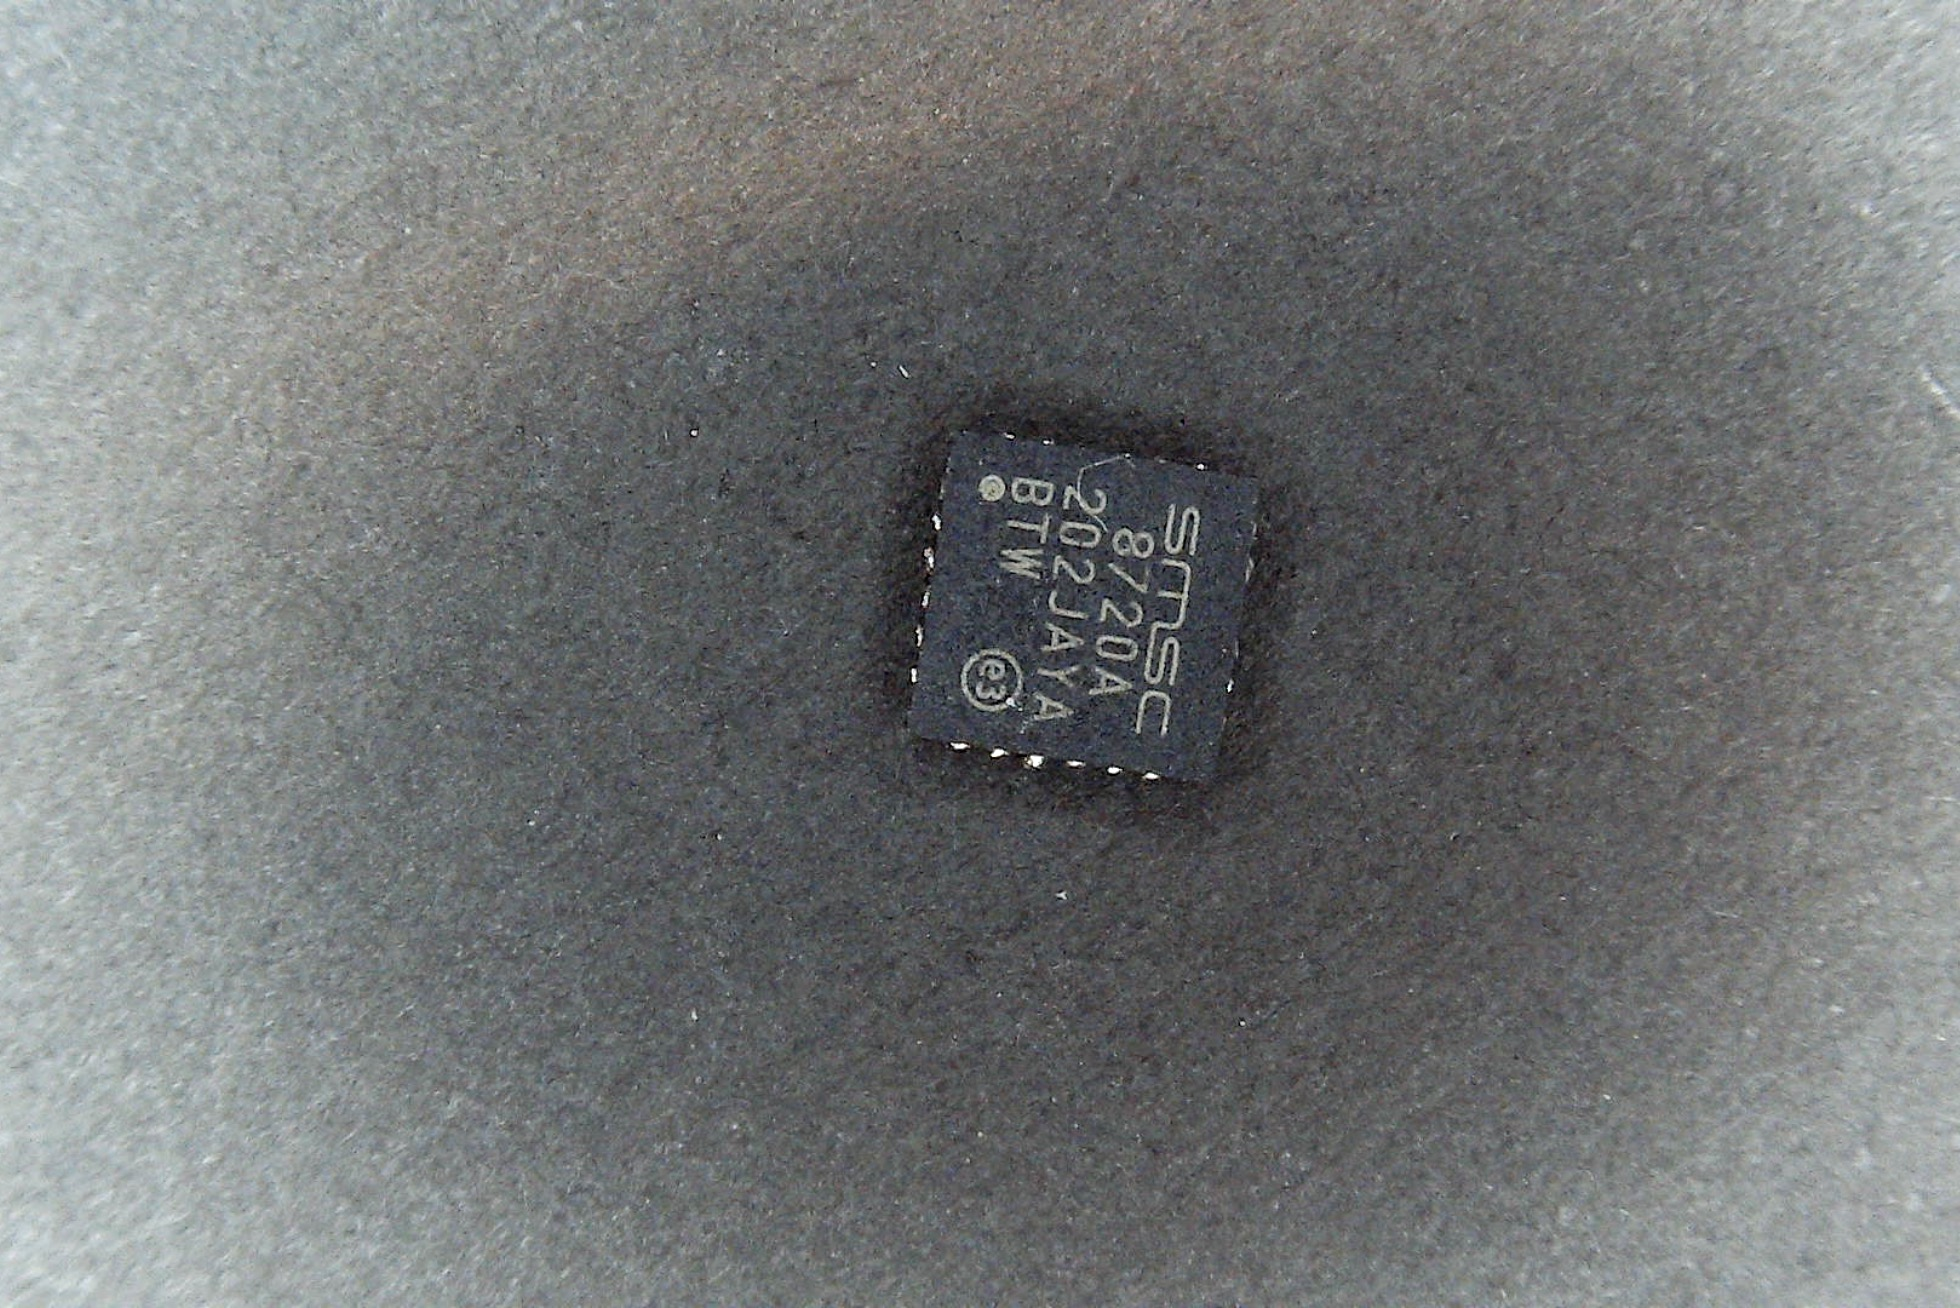bbox: (902, 429, 1265, 788)
